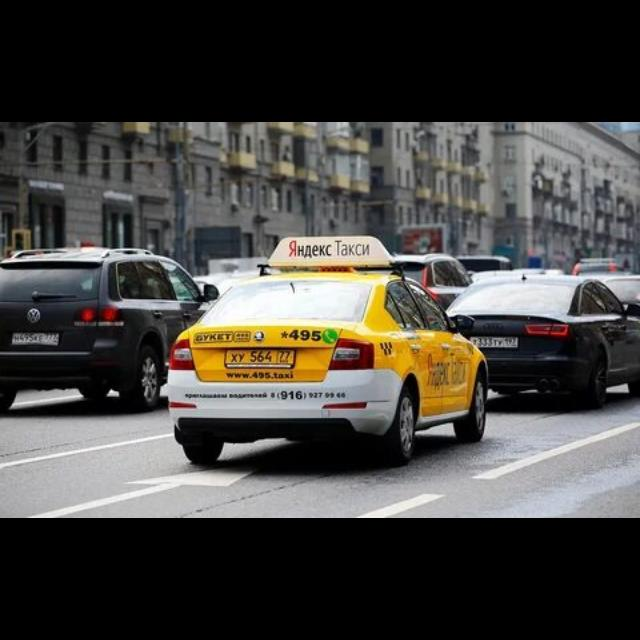taxi: (166, 235, 490, 465)
